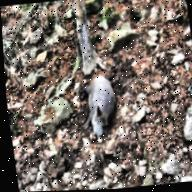boar: (80, 69, 129, 141)
